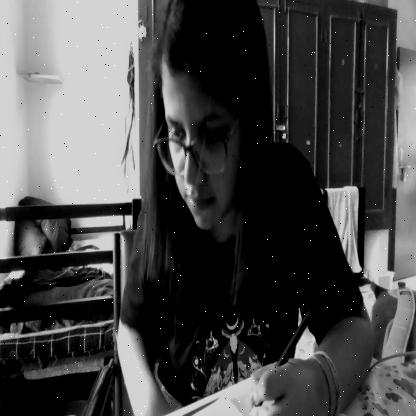Distracted: (153, 0, 259, 239)
